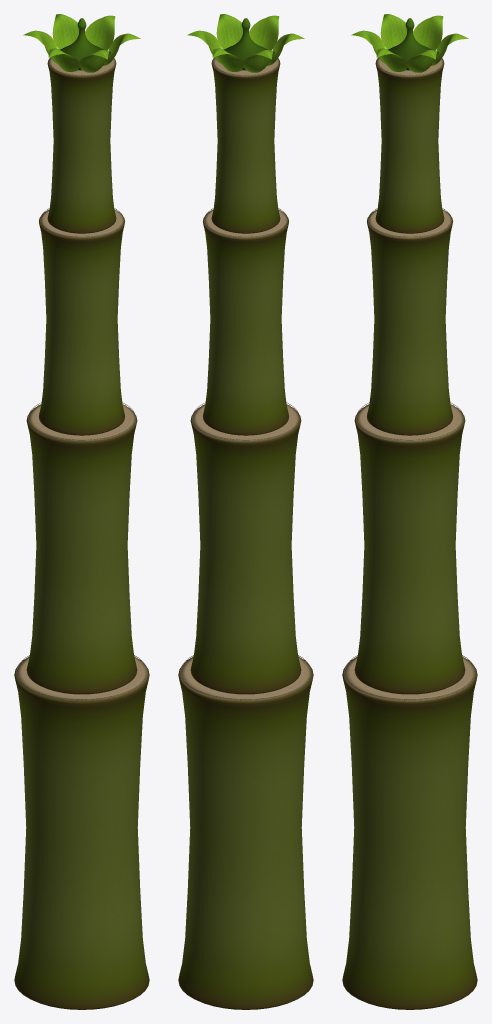
File: Taipei101_Building.FBX
3 views of the same model, side by side, from view 1: azimuth 90°, elevation 25°; view 2: azimuth 210°, elevation 25°; view 3: azimuth 270°, elevation 25° (orthographic).
Visible parts, largest first — view 1: Bamboo_01, Bamboo_02, Bamboo_03, Bamboo_04, Petal003, Petal004, Top_Detail, Petal001, Petal006, Petal005; view 2: Bamboo_01, Bamboo_02, Bamboo_03, Bamboo_04, Petal001, Petal002, Top_Detail, Petal005, Petal004, Petal003; view 3: Bamboo_01, Bamboo_02, Bamboo_03, Bamboo_04, Petal006, Petal001, Top_Detail, Petal004, Petal003, Petal002.
Boxes of the visible parts, x1,y1,x2,y2 form: Bamboo_01: (14,656,149,1009); Bamboo_02: (26,404,137,694); Bamboo_03: (39,209,124,435); Bamboo_04: (47,58,116,233); Petal003: (85,15,115,50); Petal004: (52,14,78,49); Top_Detail: (60,18,103,70); Petal001: (79,50,111,72); Petal006: (48,48,79,71); Petal005: (23,30,57,63); Bamboo_01: (178,656,313,1009); Bamboo_02: (190,404,301,694); Bamboo_03: (203,209,288,435); Bamboo_04: (211,58,280,233); Petal001: (249,15,279,50); Petal002: (216,14,242,49); Top_Detail: (224,18,267,70); Petal005: (243,50,275,72); Petal004: (212,48,243,71); Petal003: (187,30,221,63); Bamboo_01: (342,656,477,1009); Bamboo_02: (354,404,465,694); Bamboo_03: (367,209,452,435); Bamboo_04: (375,58,444,233); Petal006: (413,15,443,50); Petal001: (380,14,406,49); Top_Detail: (388,18,431,70); Petal004: (407,50,439,72); Petal003: (376,48,407,71); Petal002: (351,30,385,63).
Size of the model in its own units: 200 by 1573 by 200.
Materials: 7 (7 with a texture image).
